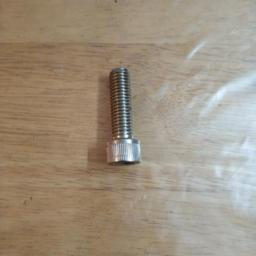screwtype1silver: (102, 66, 144, 167)
